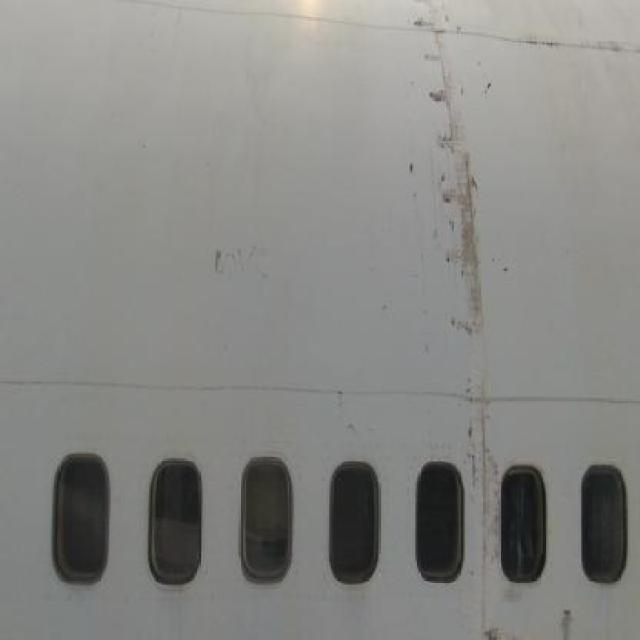Scartch: (400, 14, 517, 441)
